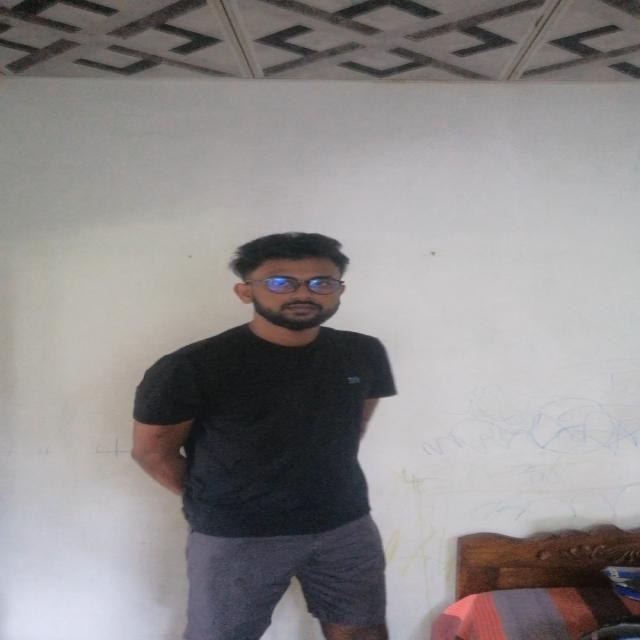Person: (123, 231, 427, 640)
